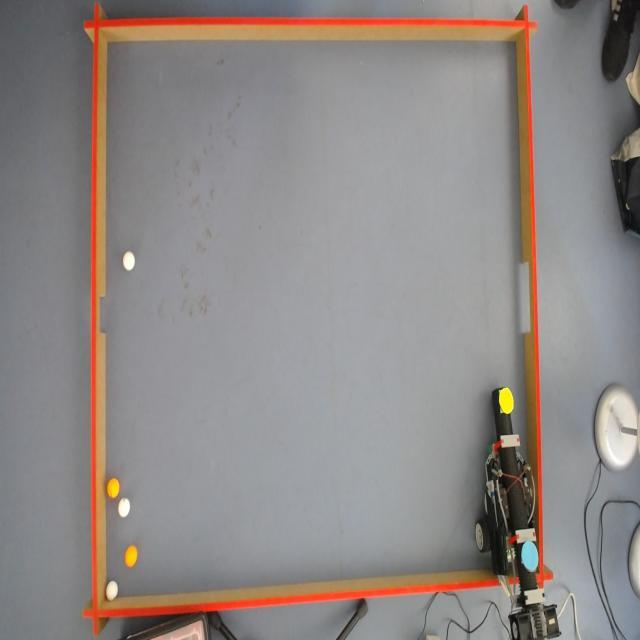orange: (108, 478, 122, 499), (126, 546, 140, 566)
robot: (474, 383, 552, 634)
robot-front: (497, 390, 515, 416)
robot-rear: (518, 536, 542, 574)
white: (106, 580, 120, 600), (124, 252, 137, 272), (120, 498, 131, 519)
